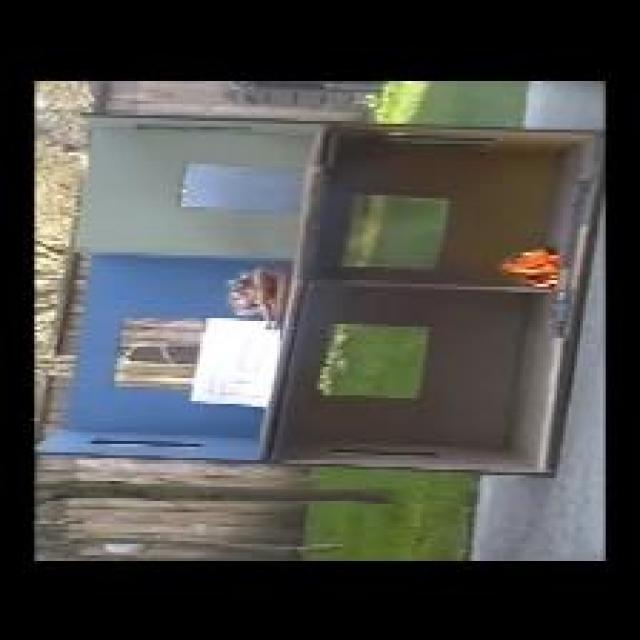Fire: (502, 247, 558, 284)
